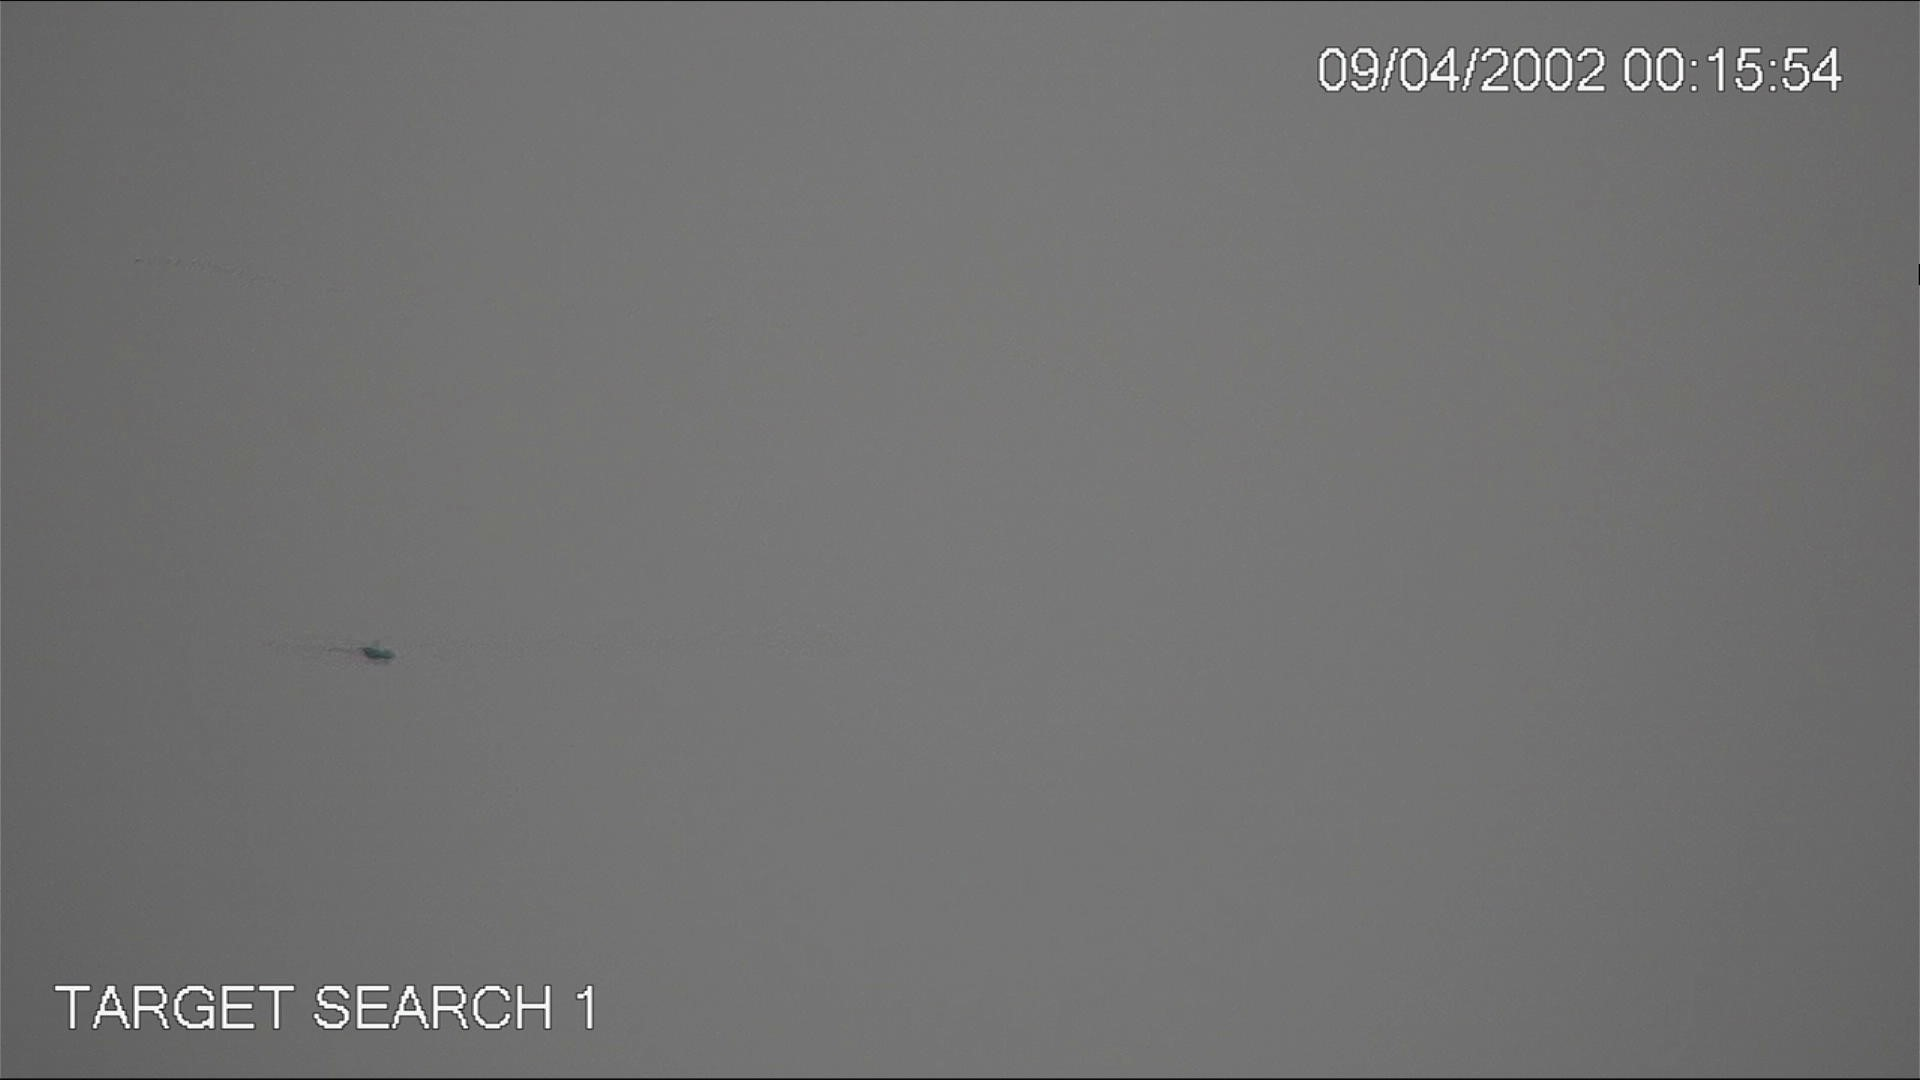SU_30: (332, 636, 393, 663)
